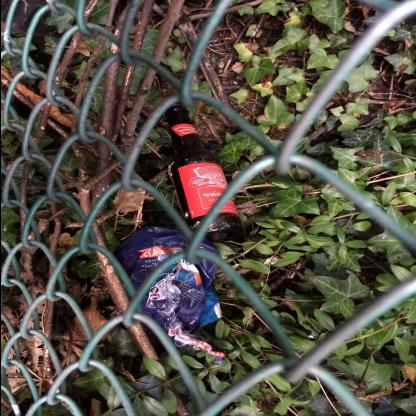cam: (157, 102, 241, 233)
plastik: (114, 226, 224, 358)
